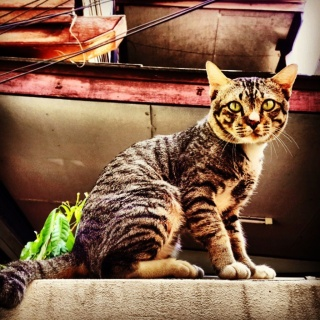Cat: (0, 58, 300, 310)
